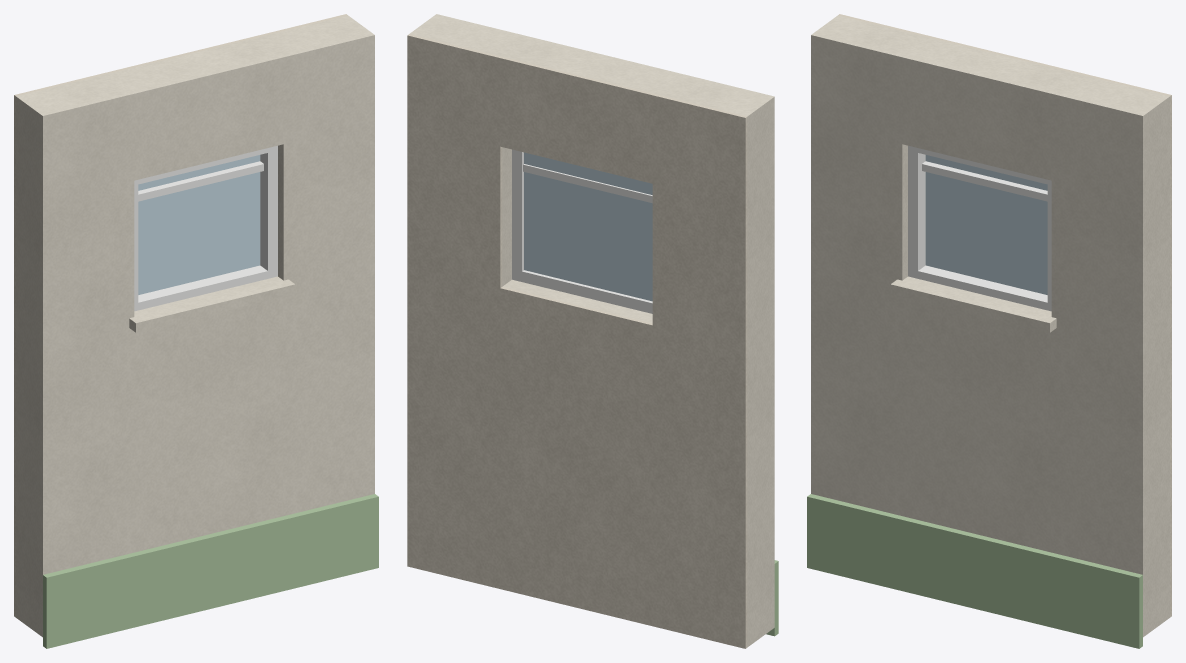
File: wall_ribbon_small.glb
3 renders of one model, left to right at view 1: azimuth 30°, elevation 25°; view 2: azimuth 150°, elevation 25°; view 3: azimuth 330°, elevation 25°, orthographic.
Parts seen in each view (by area): view 1: wall_ribbon_small_panel, wall_ribbon_small_band, wall_ribbon_small_glass, wall_ribbon_small_frame, wall_ribbon_small_plaster; view 2: wall_ribbon_small_plaster, wall_ribbon_small_panel, wall_ribbon_small_glass, wall_ribbon_small_frame; view 3: wall_ribbon_small_panel, wall_ribbon_small_band, wall_ribbon_small_glass, wall_ribbon_small_frame, wall_ribbon_small_plaster.
Part boxes in pixels (left/top/right/bottom): wall_ribbon_small_panel: left=16, top=15, right=374, bottom=637; wall_ribbon_small_band: left=43, top=494, right=378, bottom=648; wall_ribbon_small_glass: left=138, top=155, right=260, bottom=294; wall_ribbon_small_frame: left=134, top=145, right=277, bottom=311; wall_ribbon_small_plaster: left=14, top=14, right=347, bottom=617; wall_ribbon_small_plaster: left=407, top=34, right=747, bottom=648; wall_ribbon_small_panel: left=409, top=14, right=774, bottom=647; wall_ribbon_small_glass: left=524, top=152, right=652, bottom=301; wall_ribbon_small_frame: left=512, top=149, right=652, bottom=313; wall_ribbon_small_panel: left=811, top=15, right=1169, bottom=637; wall_ribbon_small_band: left=807, top=494, right=1142, bottom=648; wall_ribbon_small_glass: left=925, top=155, right=1047, bottom=294; wall_ribbon_small_frame: left=908, top=145, right=1051, bottom=311; wall_ribbon_small_plaster: left=838, top=14, right=1171, bottom=617.
Bounding box in the file's own units: 2 × 3.05 × 0.37.
5 materials, 2 textured.
